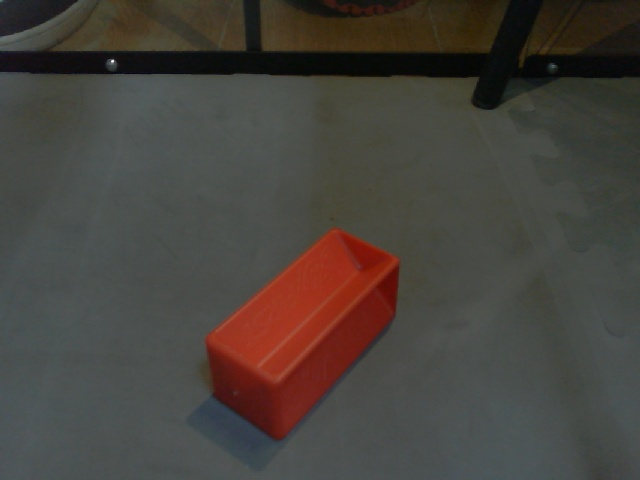RedSample: (202, 224, 400, 443)
